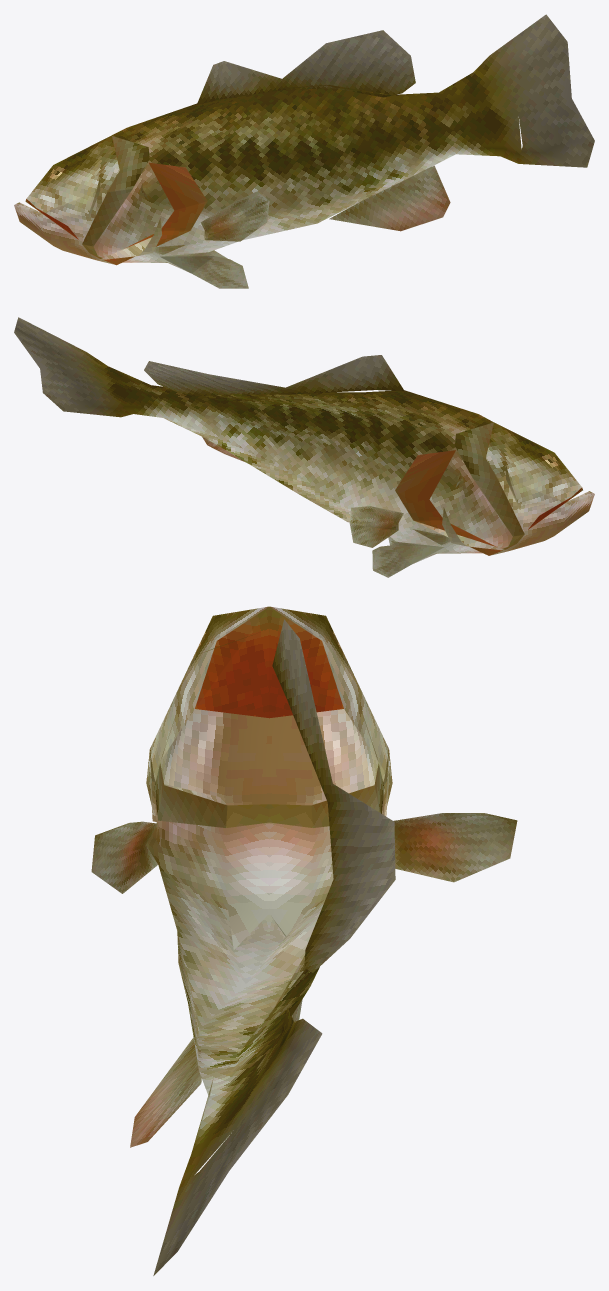
The model's file is ps2_save-icons_rapalaprobassfishing.glb.
3 renders of one model, top to bottom at view 1: azimuth 30°, elevation 25°; view 2: azimuth 150°, elevation 25°; view 3: azimuth 270°, elevation 25°, orthographic. The views are drawn at different scales.
Visible parts, largest first — view 1: default.ico; view 2: default.ico; view 3: default.ico.
Part boxes in pixels (<box>): default.ico: <box>14,14,594,288</box>; default.ico: <box>14,317,594,577</box>; default.ico: <box>91,606,517,1275</box>.
Size of the model in its own units: 4.43 by 1.65 by 1.48.
Materials: 1 (1 with a texture image).
